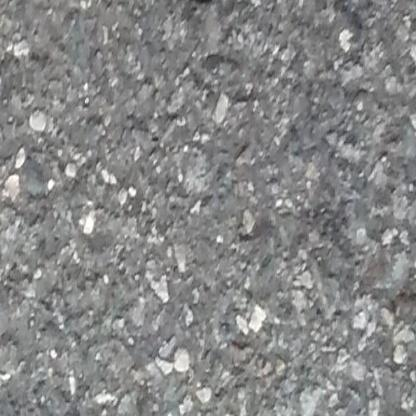Cracks: (168, 0, 281, 6)
